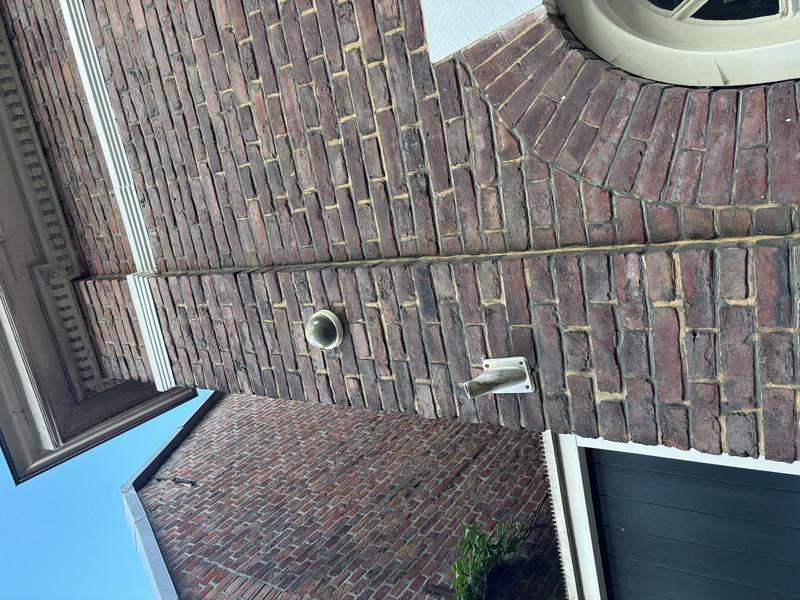dome: (243, 299, 293, 347)
